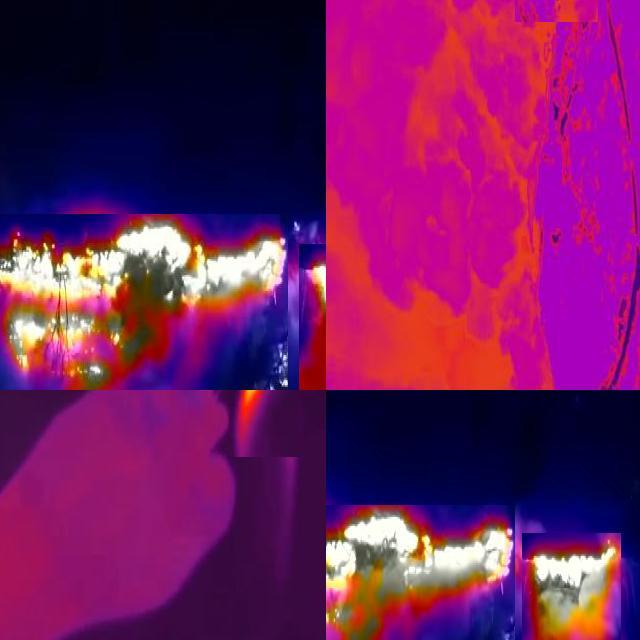fire: (1, 214, 288, 391), (327, 505, 515, 640), (522, 533, 621, 640), (231, 391, 302, 457), (299, 244, 327, 391)
